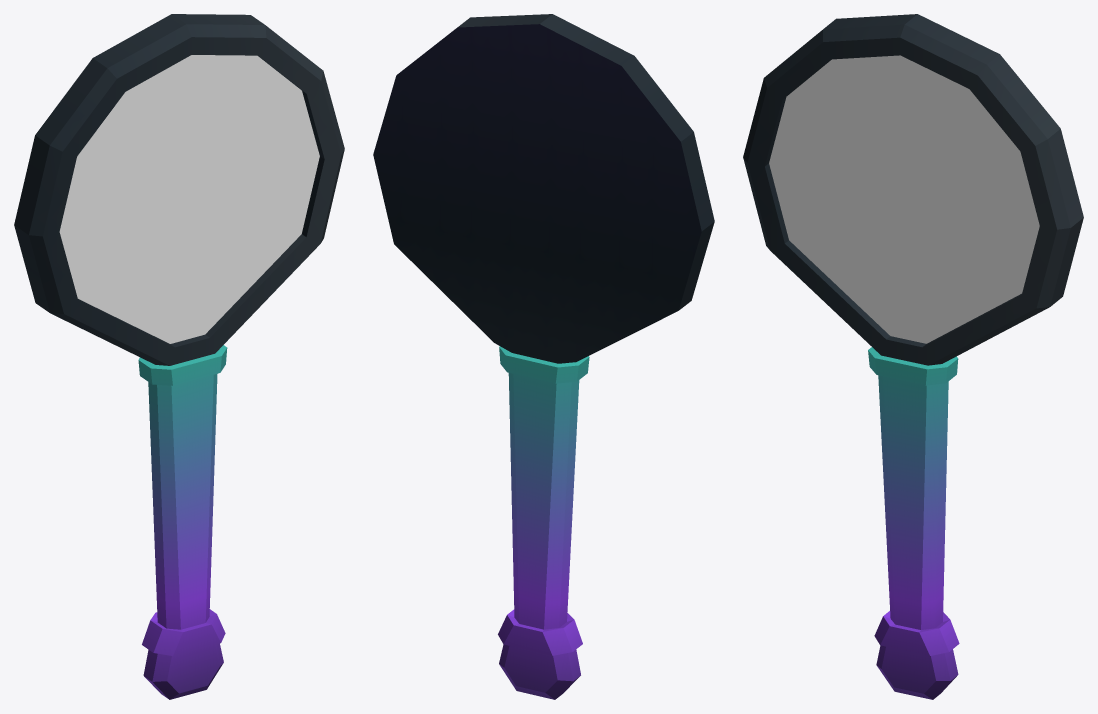
File: mirror.glb
3 views of the same model, side by side, from view 1: azimuth 30°, elevation 25°; view 2: azimuth 150°, elevation 25°; view 3: azimuth 330°, elevation 25° (orthographic).
Visible parts, largest first — view 1: Circle.014; view 2: Circle.014; view 3: Circle.014.
Boxes of the visible parts, <box> form: Circle.014: <box>14,14,344,699</box>; Circle.014: <box>373,14,714,699</box>; Circle.014: <box>743,14,1083,699</box>.
Size of the model in its own units: 1.46 by 2.91 by 0.2243.
Materials: 1 (1 with a texture image).
